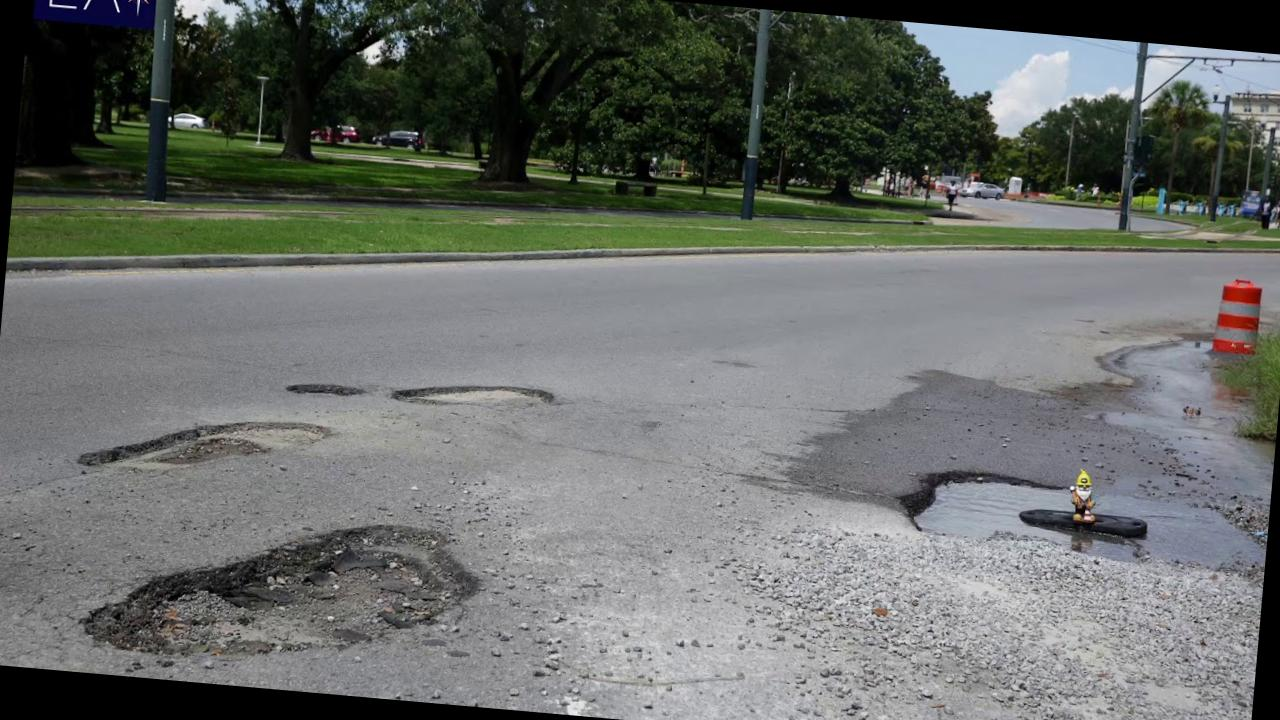pothole: (842, 392, 1276, 662), (62, 492, 492, 682), (64, 394, 346, 509), (388, 365, 584, 432), (277, 362, 376, 420)
